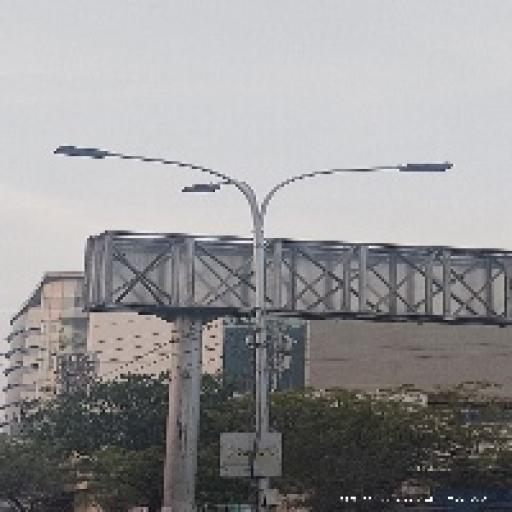Not Working: (51, 140, 113, 167), (397, 153, 456, 178), (171, 176, 220, 197)
